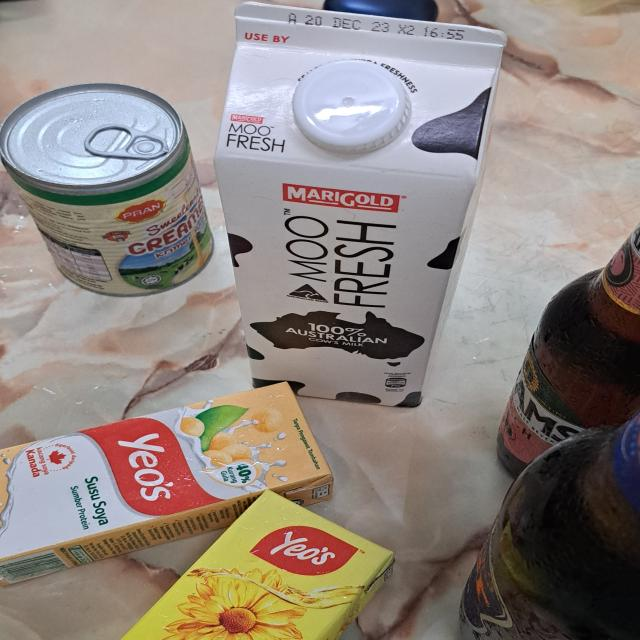can: (1, 82, 214, 297)
drink carton: (216, 0, 510, 410), (1, 380, 335, 584), (119, 489, 395, 640), (296, 61, 409, 156)
glass bottle: (500, 226, 640, 479)
pop tab: (87, 125, 169, 159)
